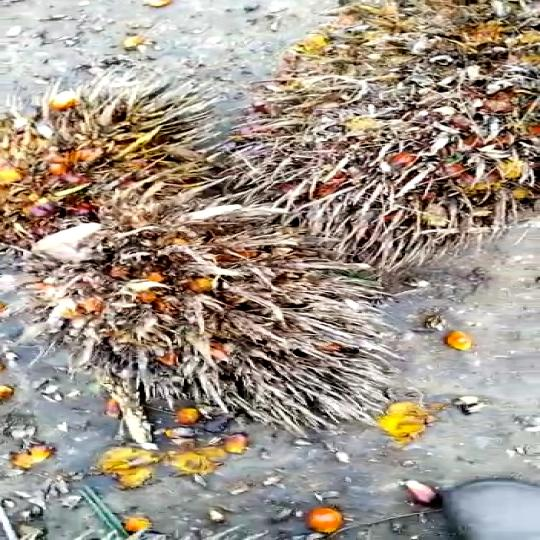terlalu masak: (11, 192, 343, 442), (241, 0, 539, 258), (0, 92, 204, 242)
